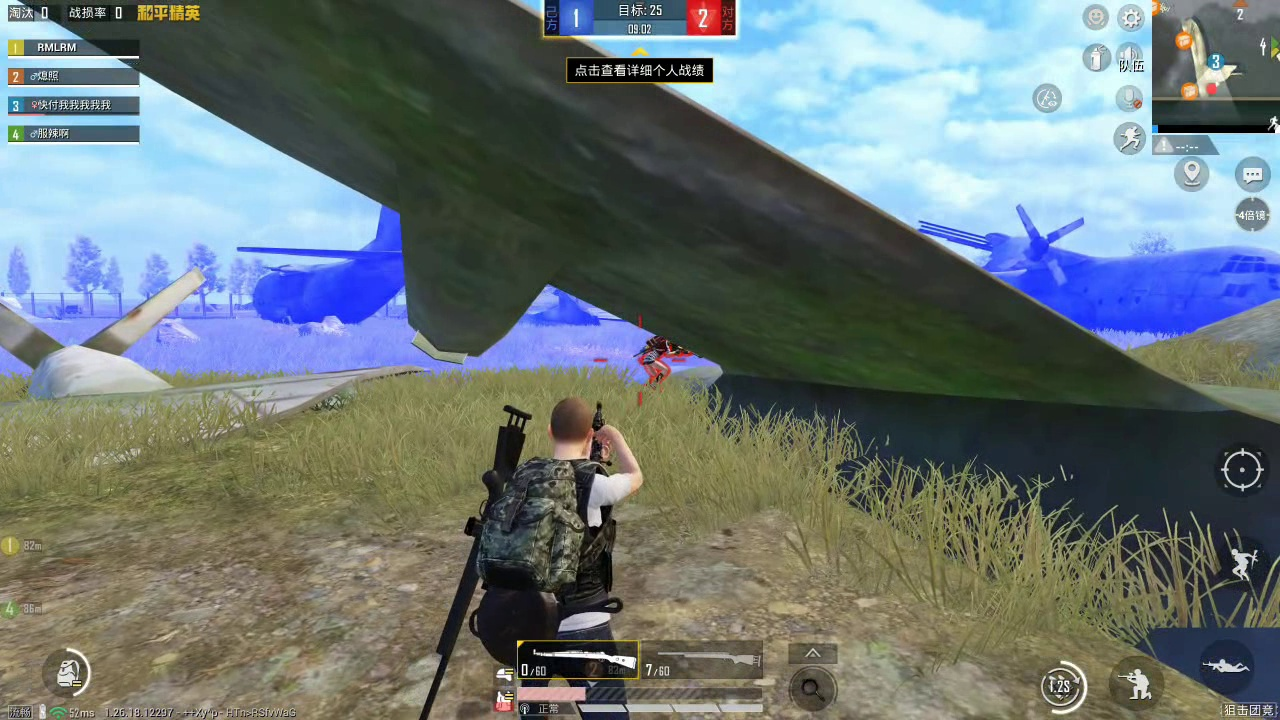enemy: (637, 327, 692, 387)
